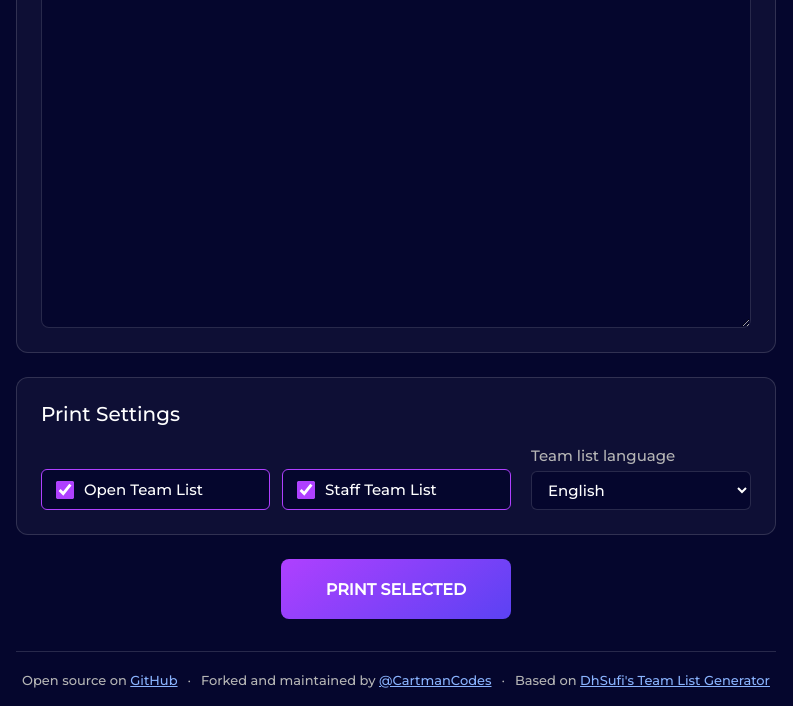
Test: App › asks for a paste before printing
(page scrolled)
Click the button "PRINT SELECTED". click: (396, 589)
box: [281, 559, 511, 619]
(page scrolled)
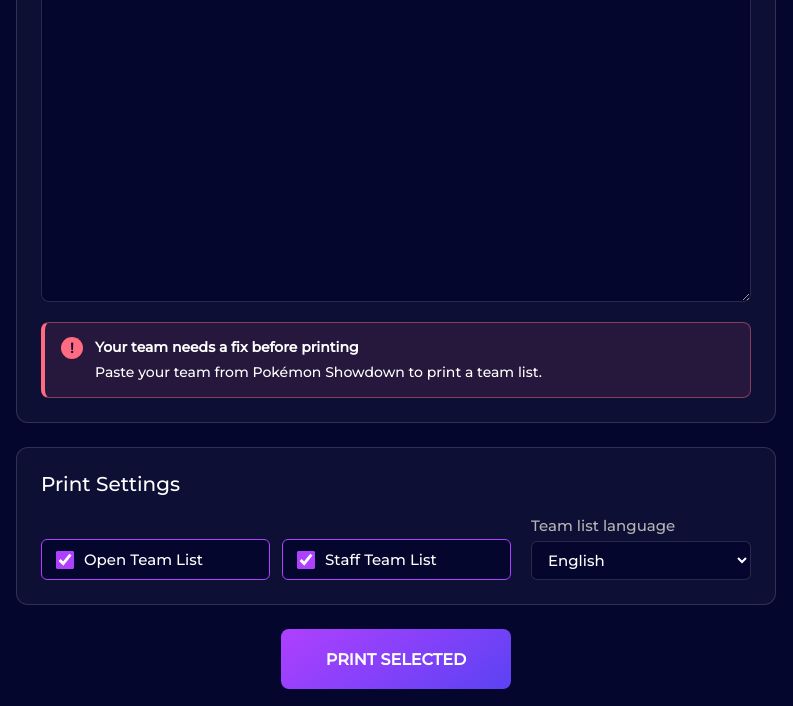
Check: the message shows "Paste your team from Pokémon Showdown to print a team list.", box [95, 363, 542, 381]
